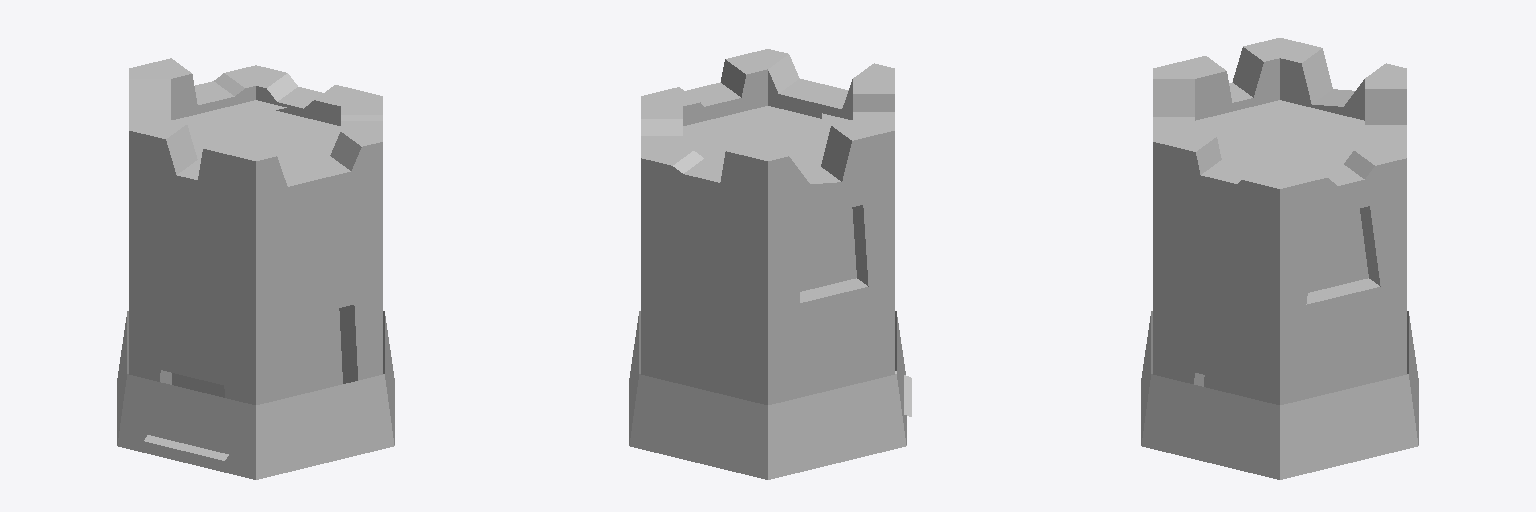
File: Relic Castle 2.obj
The picture shows the model from 3 angles: view 1: azimuth 30°, elevation 25°; view 2: azimuth 150°, elevation 25°; view 3: azimuth 270°, elevation 25°; orthographic projection.
Visible parts, largest first — view 1: polygon4, polygon1, polygon3, polygon2; view 2: polygon4, polygon1, polygon3, polygon2, polygon0; view 3: polygon4, polygon1, polygon3, polygon2, polygon0.
Boxes of the visible parts, x1=… form: polygon4: x1=129, y1=131, x2=382, y2=404; polygon1: x1=117, y1=100, x2=394, y2=479; polygon3: x1=129, y1=58, x2=382, y2=398; polygon2: x1=171, y1=74, x2=340, y2=125; polygon4: x1=641, y1=131, x2=894, y2=404; polygon1: x1=629, y1=106, x2=911, y2=479; polygon3: x1=641, y1=49, x2=894, y2=291; polygon2: x1=683, y1=69, x2=852, y2=125; polygon0: x1=800, y1=278, x2=867, y2=302; polygon4: x1=1153, y1=142, x2=1406, y2=404; polygon1: x1=1141, y1=100, x2=1418, y2=479; polygon3: x1=1153, y1=38, x2=1406, y2=396; polygon2: x1=1195, y1=58, x2=1364, y2=120; polygon0: x1=1306, y1=278, x2=1379, y2=304.
Bounding box in the file's own units: 95.38 × 103 × 82.6.